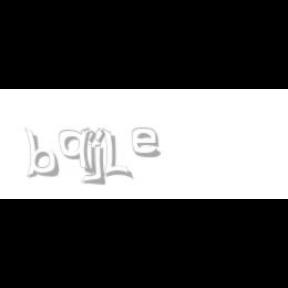L: (102, 128, 130, 180)
b: (24, 128, 62, 178)
e: (131, 128, 164, 158)
i: (84, 128, 100, 176)
j: (90, 128, 119, 186)
q: (58, 128, 94, 176)
